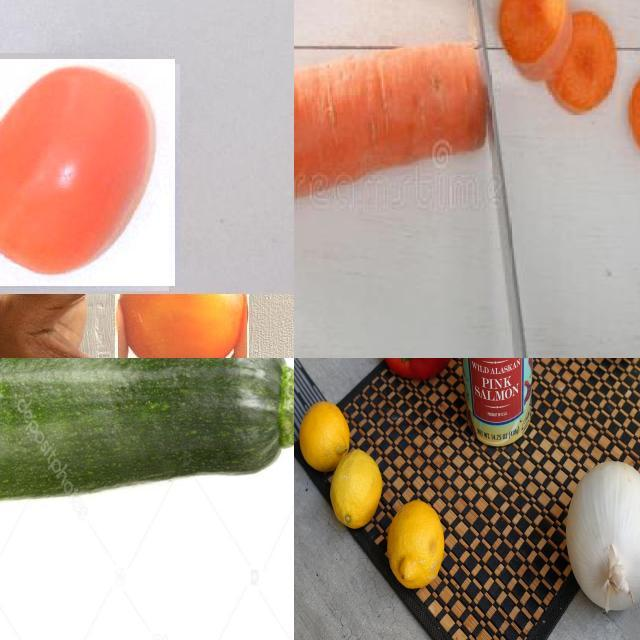carrot: (295, 38, 495, 242)
onion: (566, 463, 640, 621)
tomato: (1, 60, 176, 287), (116, 295, 249, 359)
zucchini: (1, 359, 295, 505)
